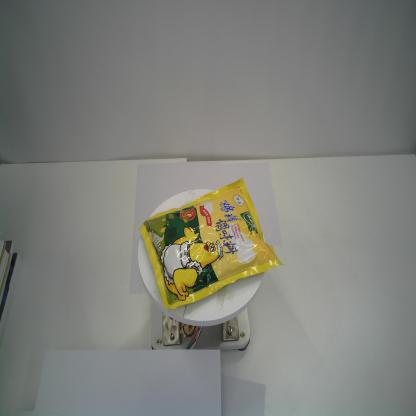Seasoner: (139, 174, 284, 314)
